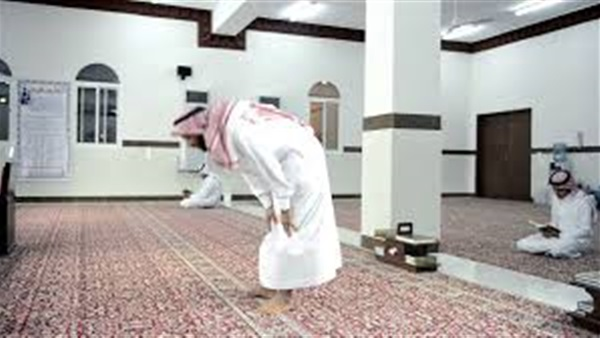ruku: (164, 90, 368, 321)
